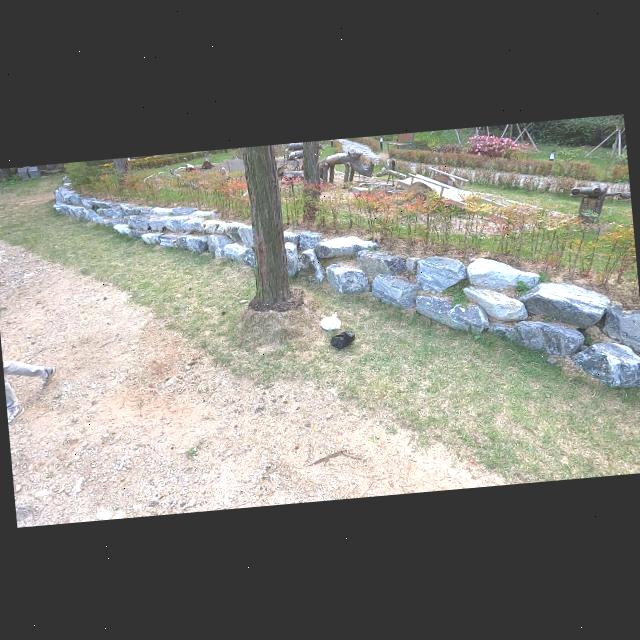trash: (329, 328, 357, 350)
